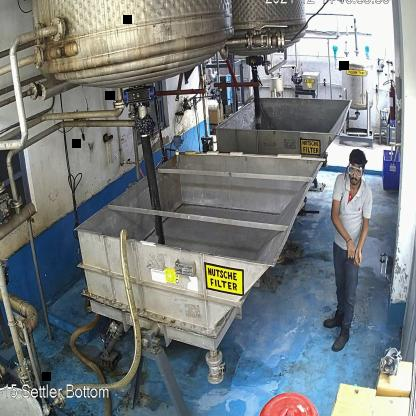goggles: (346, 164, 364, 176)
mask: (350, 174, 361, 187)
no_glove: (332, 218, 354, 262), (354, 223, 368, 271)
shoes: (330, 324, 353, 354), (322, 310, 345, 329)
